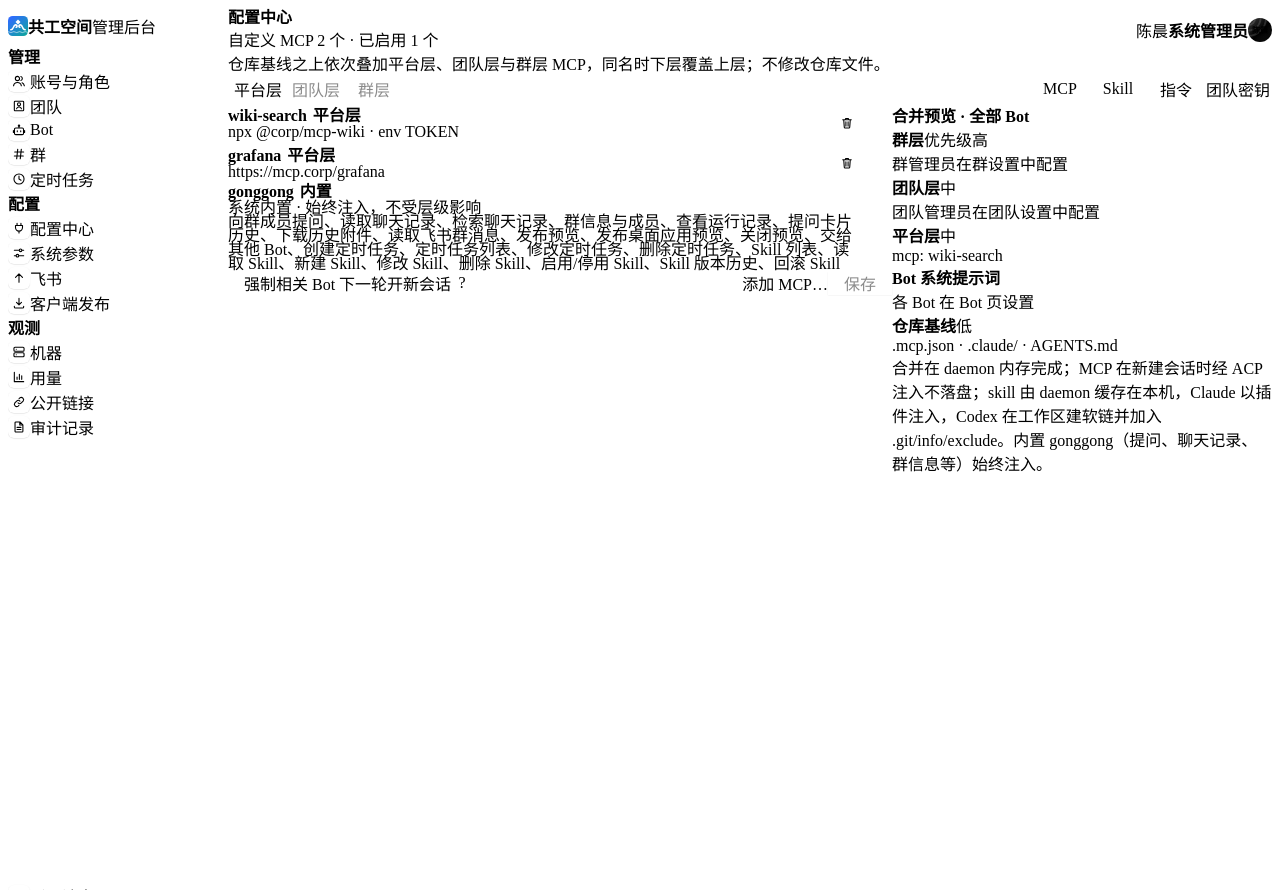
Test case: 配置中心 › shows the layers and types of the prototype; MCP and skills are live, other types not yet
Expected: the heading "配置中心" is shown, [228,9,292,26]
Expected: the tab "团队层" is disabled, [288,77,344,101]
Click the tab "指令": (1176, 89) [1148,77,1204,101]
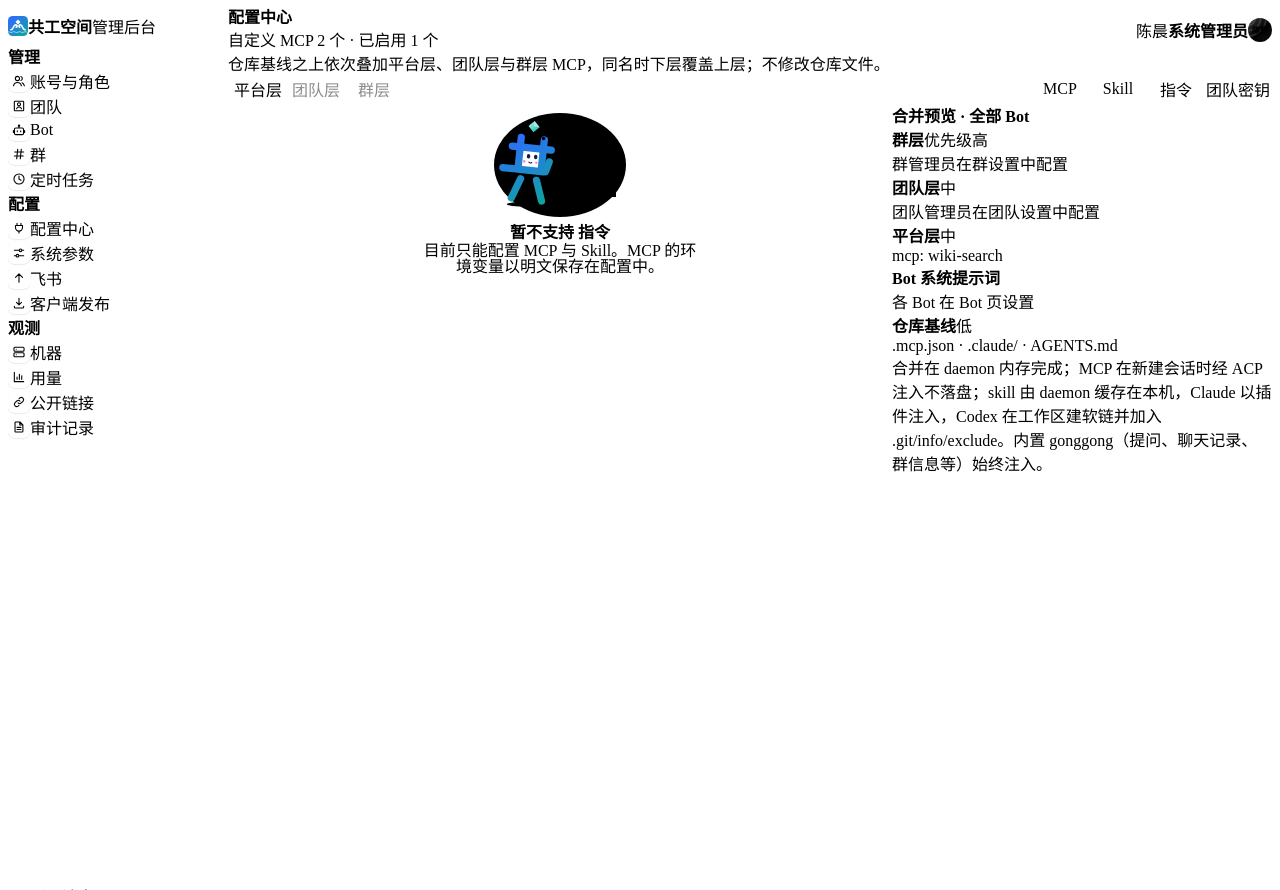
Expected: the icon "? </> { } </> 01 z z z" is shown, [480,103,640,223]
